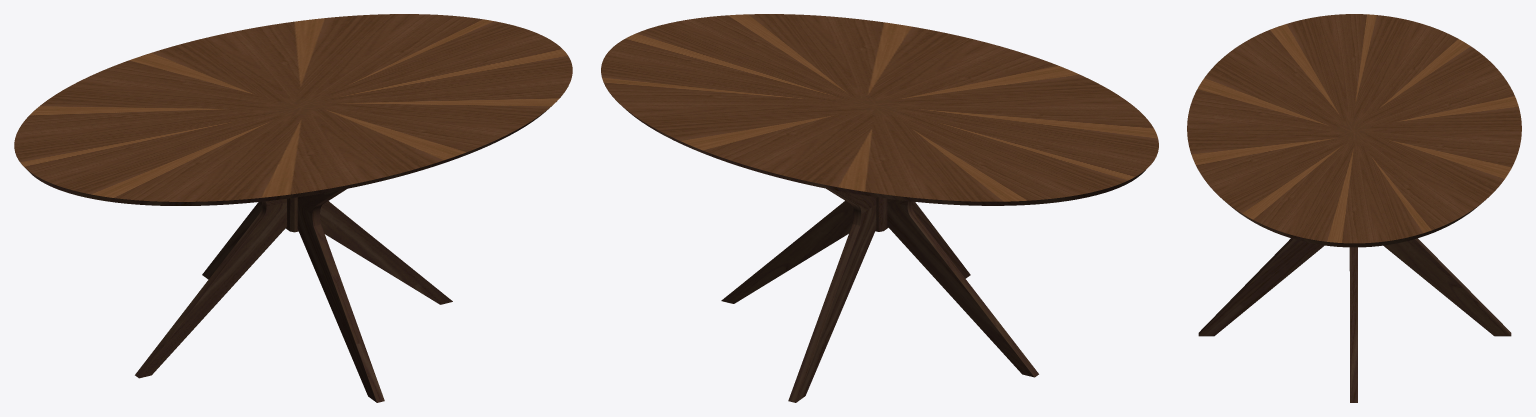
File: LGLY5881_v6_LOD2.obj
The picture shows the model from 3 angles, left to right: view 1: azimuth 30°, elevation 25°; view 2: azimuth 150°, elevation 25°; view 3: azimuth 270°, elevation 25°; orthographic projection. The views are drawn at different scales.
Visible parts, largest first — view 1: not_clear_obj_2_v6, not_clear_obj_0_v6; view 2: not_clear_obj_2_v6, not_clear_obj_0_v6; view 3: not_clear_obj_2_v6, not_clear_obj_0_v6.
Boxes of the visible parts, bbox=[...] form: not_clear_obj_2_v6: bbox=[14, 14, 572, 201]; not_clear_obj_0_v6: bbox=[19, 86, 568, 402]; not_clear_obj_2_v6: bbox=[601, 14, 1158, 201]; not_clear_obj_0_v6: bbox=[615, 99, 1146, 402]; not_clear_obj_2_v6: bbox=[1187, 14, 1521, 243]; not_clear_obj_0_v6: bbox=[1198, 197, 1511, 402].
Bounding box in the file's own units: 179 × 74.93 × 110.
3 materials, 2 textured.
